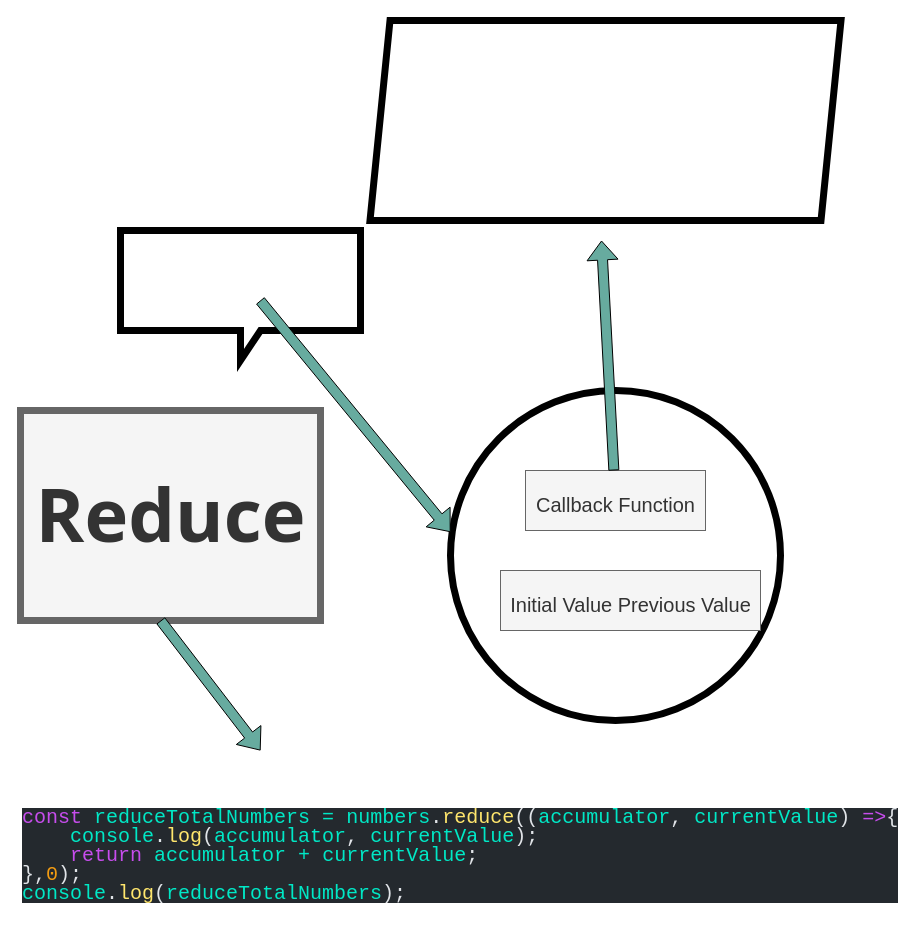
The diagram is 916 pixels wide and 928 high, and some of its shapes have lost their labels. Here are the shapes that lost their labels. From the top down, the centre of each, then its label:
At pixel 605 120: "Two Parameters 1. previousReturn Value 2. Current Value".
At pixel 240 295: "Two Parameters".
